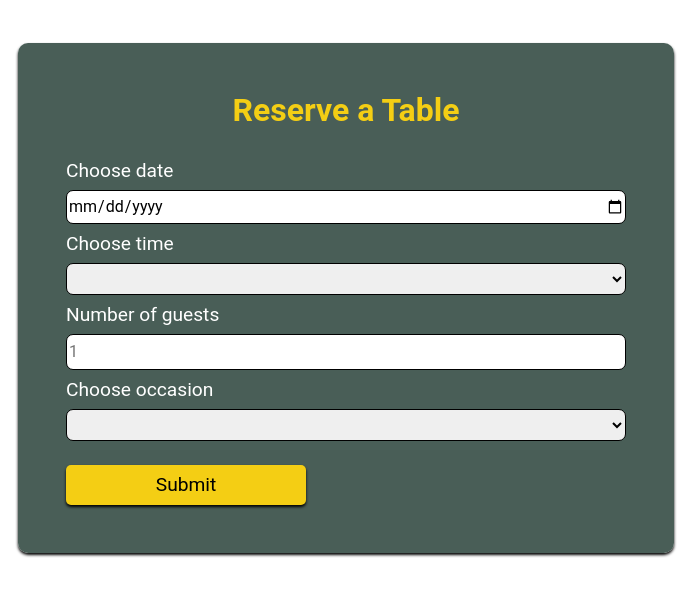
Test: html validation for each form field [Invalid]
Type "2024-09-25" into the date field labelled "Choose date" at (346, 207), box [66,190,626,224]
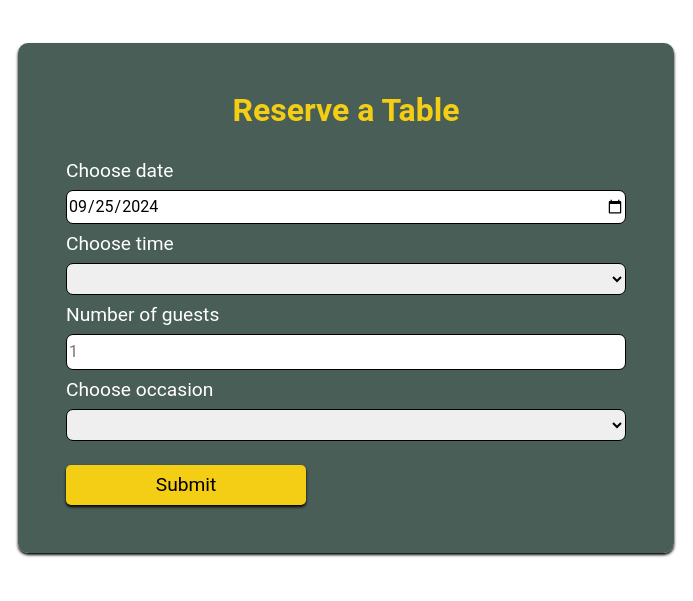
Select "18:00" in the dropdown labelled "Choose time" at (346, 279), box [66,263,626,295]
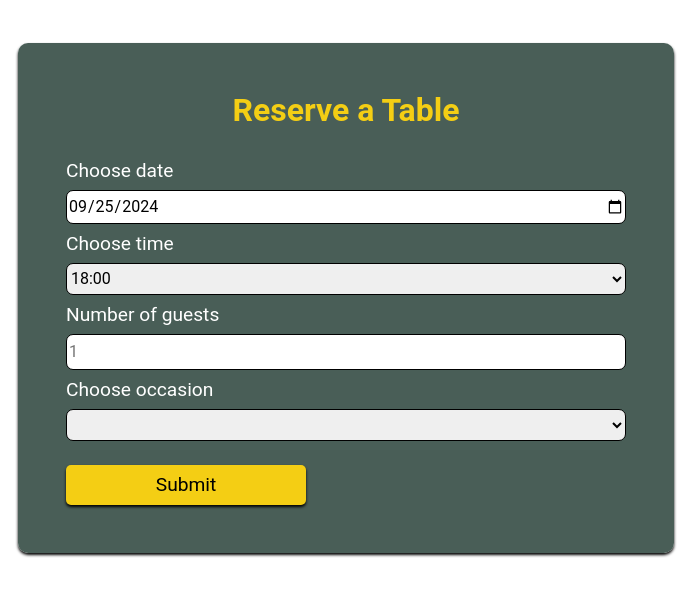
Type "0" into the number field labelled "Number of guests" at (346, 352), box [66,334,626,370]
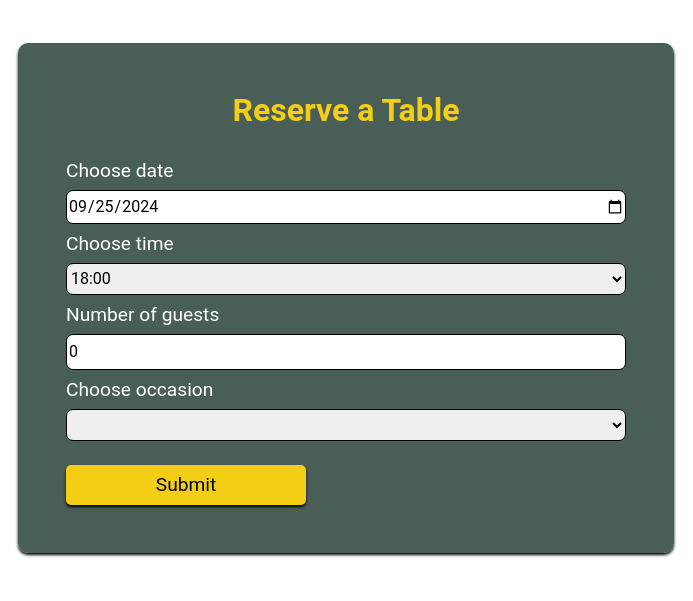
Select "Birthday" in the dropdown labelled "Choose occasion" at (346, 425), box [66,409,626,441]
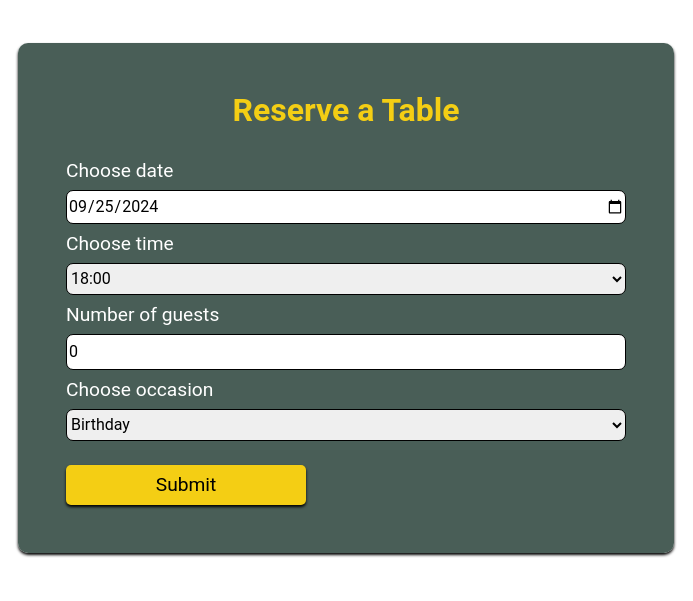
Click the button at (186, 485), box [66,465,306,505]
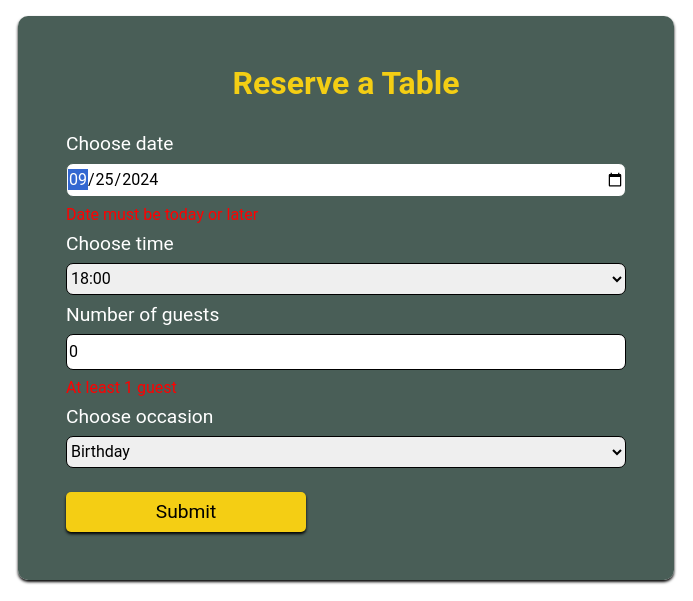
Result: the text with test id "date-error" reads "Date must be today or later" at [66,205,258,224]
Result: the text with test id "guests-error" reads "At least 1 guest" at [66,378,177,397]
